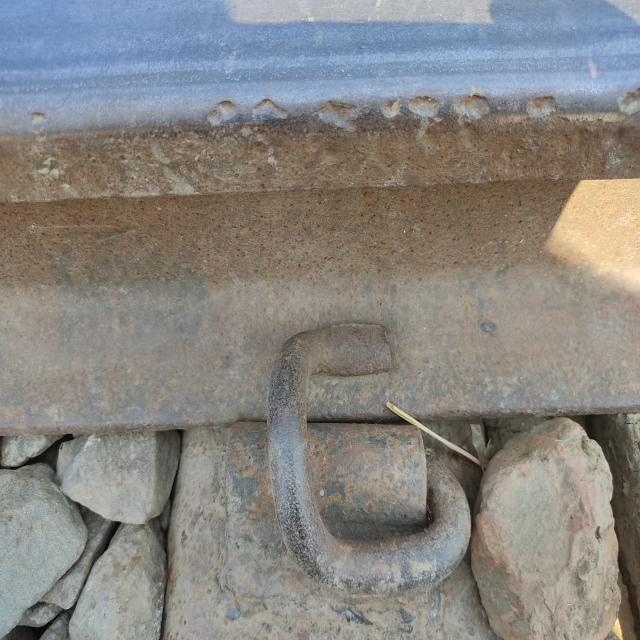No Fault: (237, 294, 475, 614)
